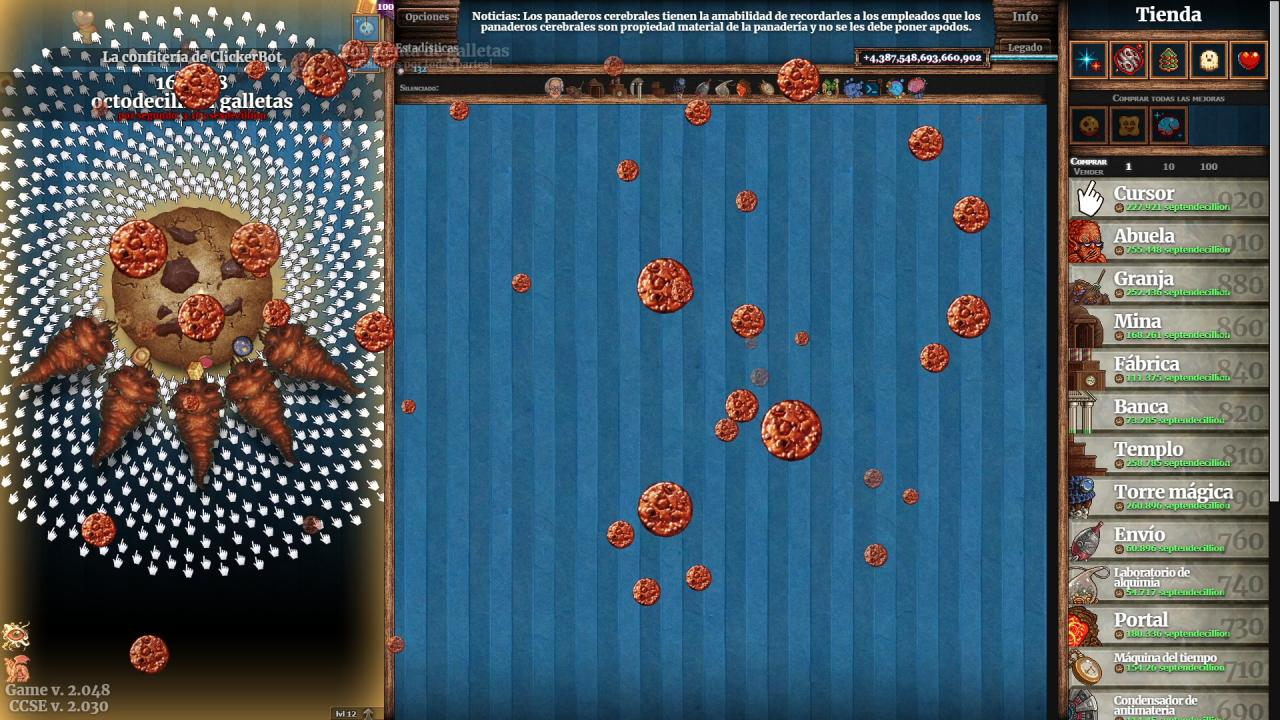RedCookie: (760, 399, 824, 463), (109, 219, 169, 281), (636, 257, 694, 315), (638, 481, 694, 539), (230, 221, 282, 274), (177, 293, 227, 344), (173, 61, 222, 112), (301, 52, 349, 100), (946, 293, 992, 340), (777, 58, 822, 103), (353, 312, 397, 354), (128, 634, 170, 676), (952, 195, 992, 236), (908, 125, 944, 162), (730, 303, 766, 339), (81, 512, 116, 548), (724, 388, 760, 423), (339, 38, 371, 69), (631, 576, 662, 608), (919, 343, 951, 373), (606, 520, 636, 550), (262, 299, 292, 328), (372, 40, 400, 69), (684, 98, 712, 127), (686, 564, 712, 593), (863, 542, 889, 568), (714, 416, 740, 442), (616, 159, 640, 183), (735, 189, 759, 213), (863, 467, 885, 491), (448, 99, 470, 122), (671, 281, 694, 303), (245, 59, 267, 81), (511, 272, 531, 295), (386, 634, 406, 655), (902, 487, 920, 506), (400, 399, 417, 415), (794, 330, 810, 347)
